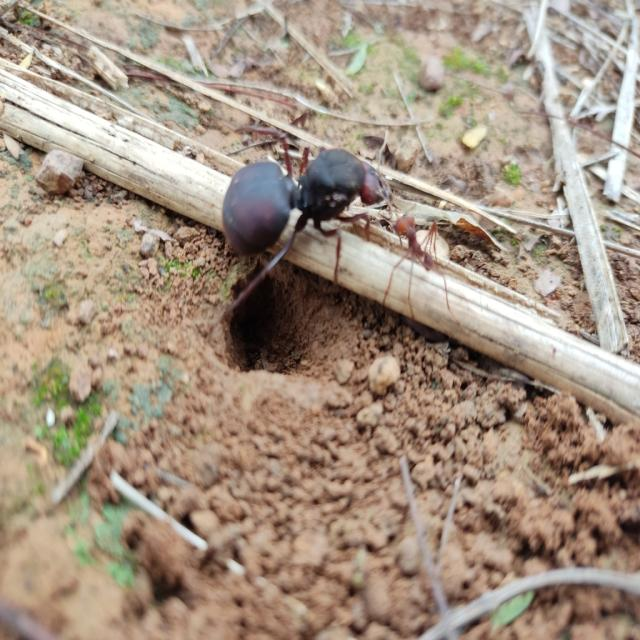Alive-Female-Dealate: (221, 134, 416, 317)
